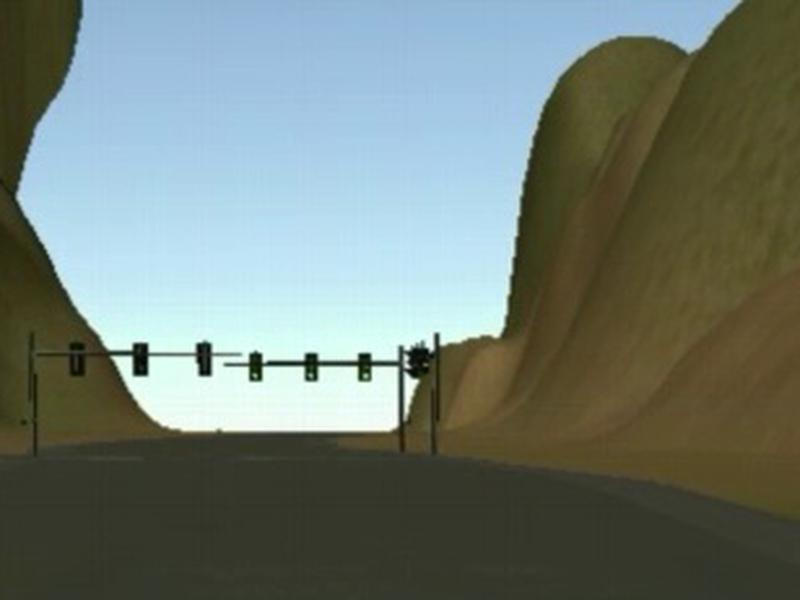Green: (248, 351, 262, 379), (304, 351, 316, 381), (359, 352, 371, 380)
